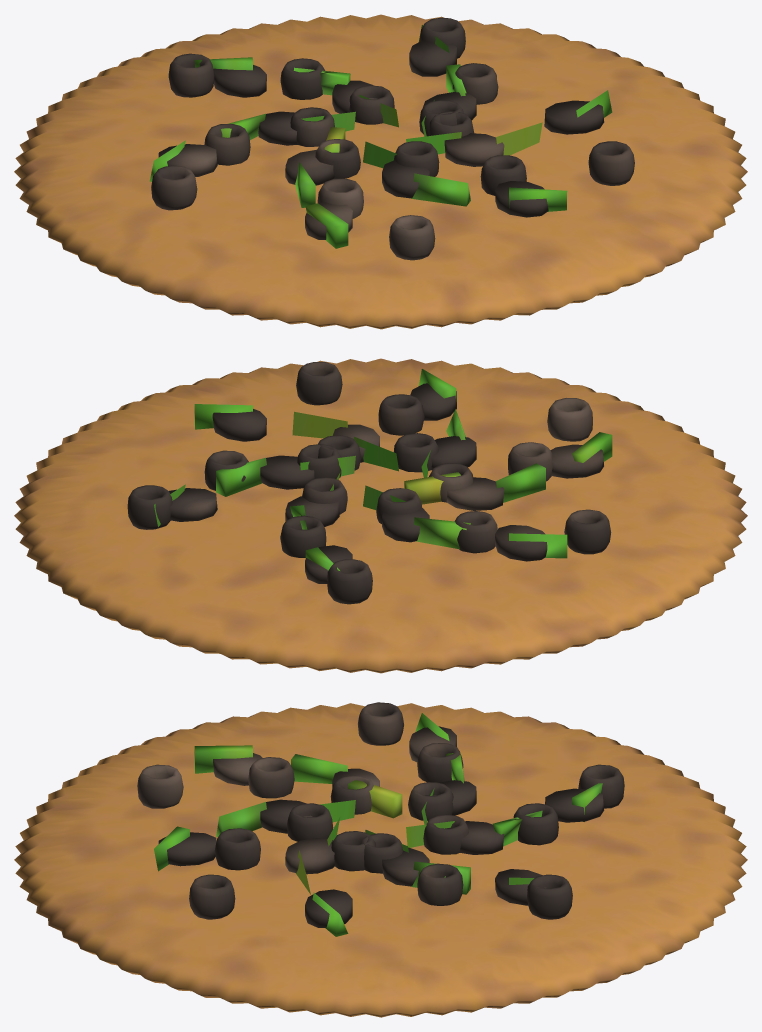
Rendered from farmhouse-supreme-pizza-balanced.glb.
3 renders of one model, top to bottom at view 1: azimuth 30°, elevation 25°; view 2: azimuth 150°, elevation 25°; view 3: azimuth 270°, elevation 25°, orthographic.
Parts seen in each view (by area): view 1: Mesh_Artisan_Pizza_Crust, Mesh_Black_Olives_And_Mushrooms, Mesh_Farmhouse_Peppers_And_Corn; view 2: Mesh_Artisan_Pizza_Crust, Mesh_Black_Olives_And_Mushrooms, Mesh_Farmhouse_Peppers_And_Corn; view 3: Mesh_Artisan_Pizza_Crust, Mesh_Black_Olives_And_Mushrooms, Mesh_Farmhouse_Peppers_And_Corn.
Part boxes in pixels (x1,y1,x2,y2): Mesh_Artisan_Pizza_Crust: (14,14,747,329); Mesh_Black_Olives_And_Mushrooms: (151,17,634,260); Mesh_Farmhouse_Peppers_And_Corn: (149,25,612,248); Mesh_Artisan_Pizza_Crust: (14,358,747,673); Mesh_Black_Olives_And_Mushrooms: (127,362,611,604); Mesh_Farmhouse_Peppers_And_Corn: (154,369,612,570); Mesh_Artisan_Pizza_Crust: (14,703,747,1017); Mesh_Black_Olives_And_Mushrooms: (137,702,624,927); Mesh_Farmhouse_Peppers_And_Corn: (154,713,602,936).
Bounding box in the file's own units: 2.4 × 0.28 × 2.4.
Materials: 4 (4 with a texture image).
